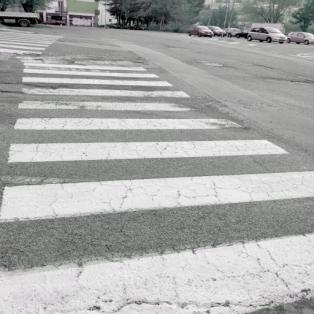Paso de Cebra: (6, 116, 293, 168), (20, 65, 181, 89)
